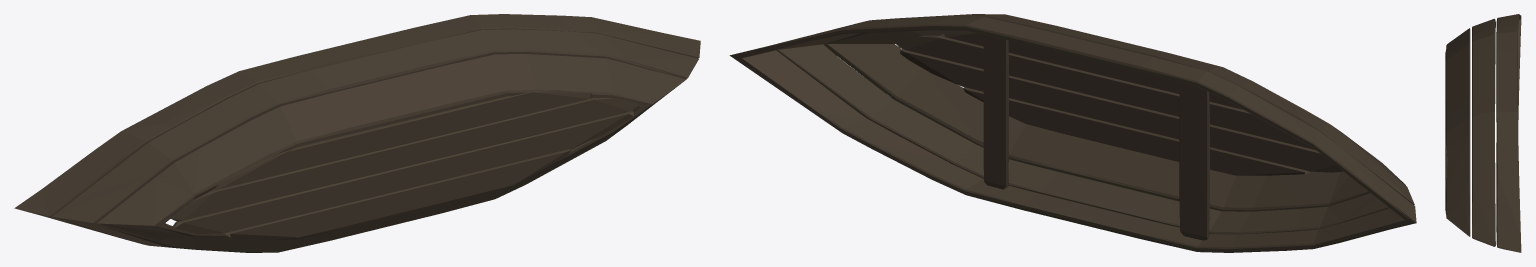
File: boat.FBX
The picture shows the model from 3 angles, left to right: view 1: azimuth 30°, elevation 25°; view 2: azimuth 150°, elevation 25°; view 3: azimuth 270°, elevation 25°; orthographic projection. The views are drawn at different scales.
Parts seen in each view (by area): view 1: Boat; view 2: Boat; view 3: Boat.
Part boxes in pixels (x1,y1,x2,y2): Boat: (14, 14, 700, 252); Boat: (729, 14, 1416, 252); Boat: (1445, 14, 1521, 252).
Bounding box in the file's own units: 358 × 85.88 × 48.37.
